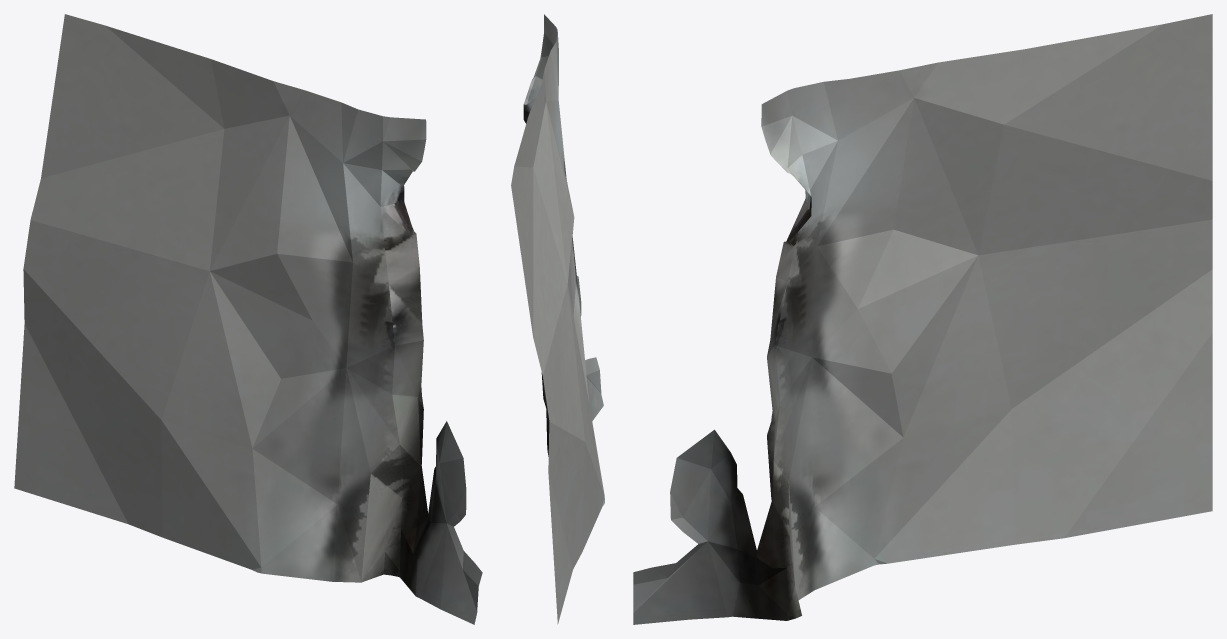
3 renders of one model, left to right at view 1: azimuth 30°, elevation 25°; view 2: azimuth 150°, elevation 25°; view 3: azimuth 270°, elevation 25°, orthographic. The views are drawn at different scales.
Bounding box in the file's own units: 0.4046 × 0.8374 × 0.8373.
2 materials, 2 textured.
